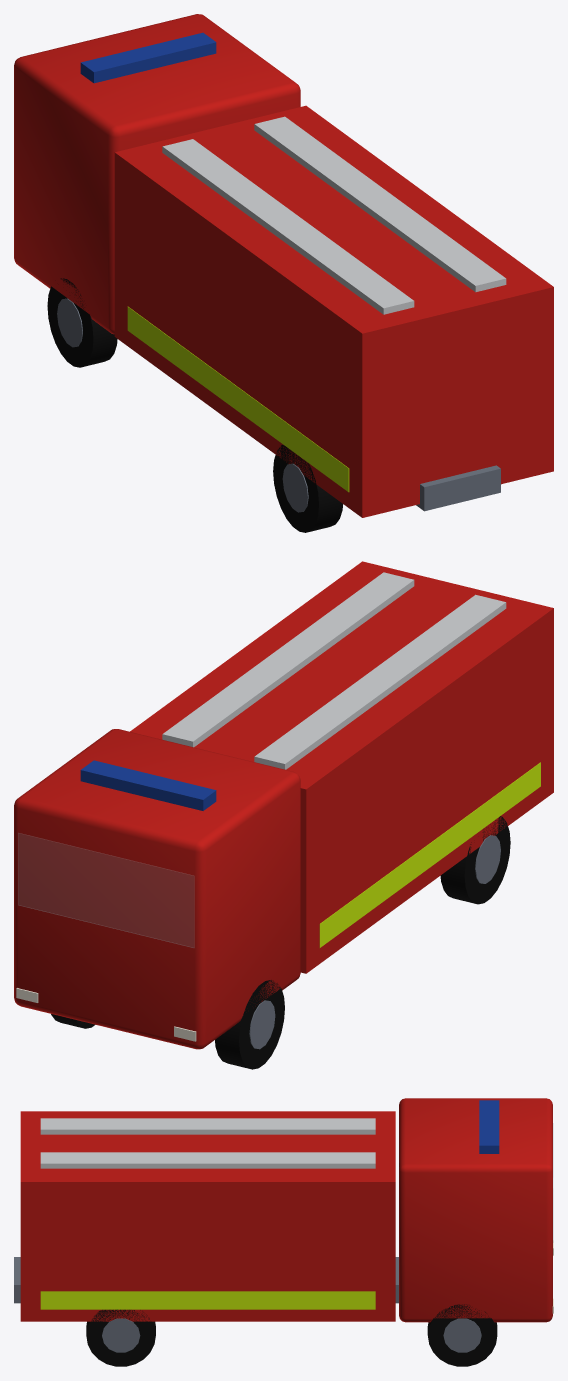
File: vehicle.emergency.fire_engine.glb
The picture shows the model from 3 angles, top to bottom: view 1: azimuth 30°, elevation 25°; view 2: azimuth 150°, elevation 25°; view 3: azimuth 270°, elevation 25°; orthographic projection. The views are drawn at different scales.
Visible parts, largest first — view 1: main__hazard_red, main__aluminium, main__hivis_yellow, main__rubber, main__steel_painted, main__plastic_blue; view 2: main__hazard_red, main__aluminium, main__glass, main__rubber, main__hivis_yellow, main__plastic_blue, main__steel_painted; view 3: main__hazard_red, main__aluminium, main__hivis_yellow, main__rubber, main__steel_painted, main__plastic_blue.
Boxes of the visible parts, x1,y1,x2,y2 form: main__hazard_red: (14,14,553,517); main__aluminium: (162,116,506,314); main__hivis_yellow: (127,306,349,492); main__rubber: (47,278,342,532); main__steel_painted: (57,298,500,512); main__plastic_blue: (80,32,216,83); main__hazard_red: (14,561,553,1049); main__aluminium: (162,572,506,769); main__glass: (18,833,194,947); main__rubber: (51,816,510,1069); main__hivis_yellow: (319,762,540,947); main__plastic_blue: (80,760,216,810); main__steel_painted: (249,835,500,1049); main__hazard_red: (20,1098,552,1322); main__aluminium: (40,1118,375,1168); main__hivis_yellow: (40,1291,375,1309); main__rubber: (86,1304,497,1366); main__steel_painted: (14,1257,481,1352); main__plastic_blue: (479,1100,499,1153).
Size of the model in its own units: 2.52 by 3.43 by 8.07.
